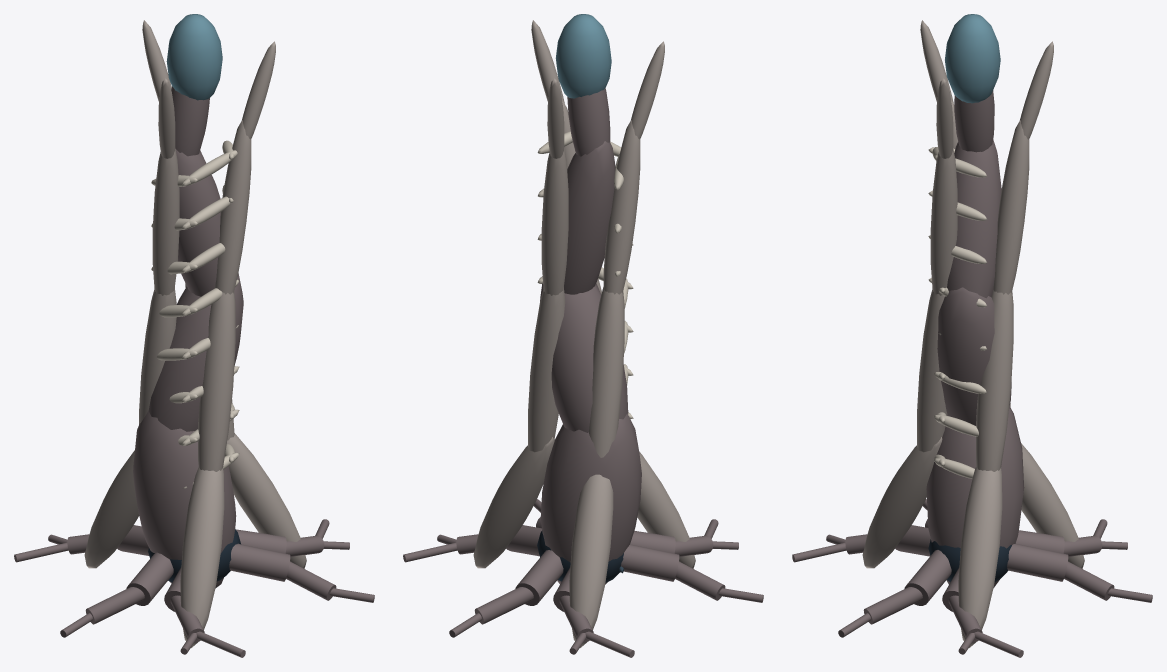
The model's file is CMU3DHiveCMU14PathogenPylonConstructionNode.glb.
3 views of the same model, side by side, from view 1: azimuth 30°, elevation 25°; view 2: azimuth 150°, elevation 25°; view 3: azimuth 270°, elevation 25° (orthographic).
Parts seen in each view (by area): view 1: twisted pylon buttress (×10), crooked pylon spine (×4), sinuous anchoring root (×8), pylon sensory crown, overlapping vertebral ridge (×2), construction bud; view 2: twisted pylon buttress (×10), crooked pylon spine (×4), sinuous anchoring root (×8), pylon sensory crown, construction bud; view 3: twisted pylon buttress (×10), crooked pylon spine (×4), sinuous anchoring root (×8), pylon sensory crown, construction bud.
Boxes of the visible parts, left/top/right/bottom form: twisted pylon buttress (×10): left=84, top=20, right=306, bottom=647; crooked pylon spine (×4): left=133, top=86, right=243, bottom=588; sinuous anchoring root (×8): left=85, top=525, right=336, bottom=642; pylon sensory crown: left=166, top=14, right=222, bottom=100; overlapping vertebral ridge (×2): left=182, top=150, right=237, bottom=229; construction bud: left=148, top=529, right=240, bottom=582; twisted pylon buttress (×10): left=473, top=20, right=695, bottom=647; crooked pylon spine (×4): left=540, top=88, right=641, bottom=584; sinuous anchoring root (×8): left=474, top=525, right=725, bottom=642; pylon sensory crown: left=555, top=14, right=611, bottom=98; construction bud: left=537, top=530, right=623, bottom=582; twisted pylon buttress (×10): left=862, top=20, right=1084, bottom=647; crooked pylon spine (×4): left=926, top=90, right=1024, bottom=588; sinuous anchoring root (×8): left=863, top=525, right=1114, bottom=642; pylon sensory crown: left=945, top=14, right=1000, bottom=103; construction bud: left=928, top=539, right=1011, bottom=582.
Bounding box in the file's own units: 1.06 × 1.88 × 1.06.
